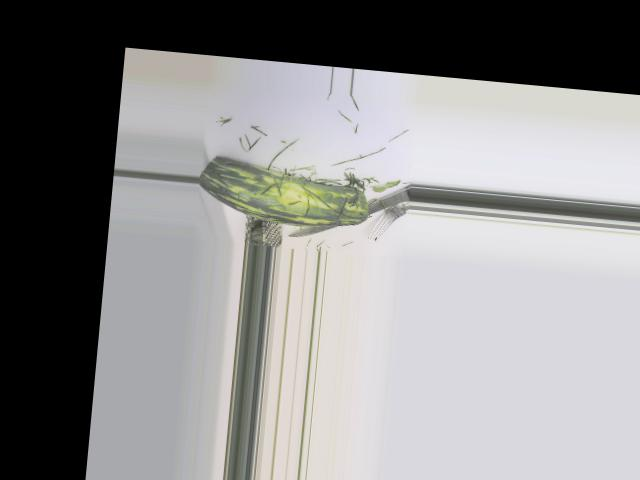cucumber: (196, 153, 373, 231)
